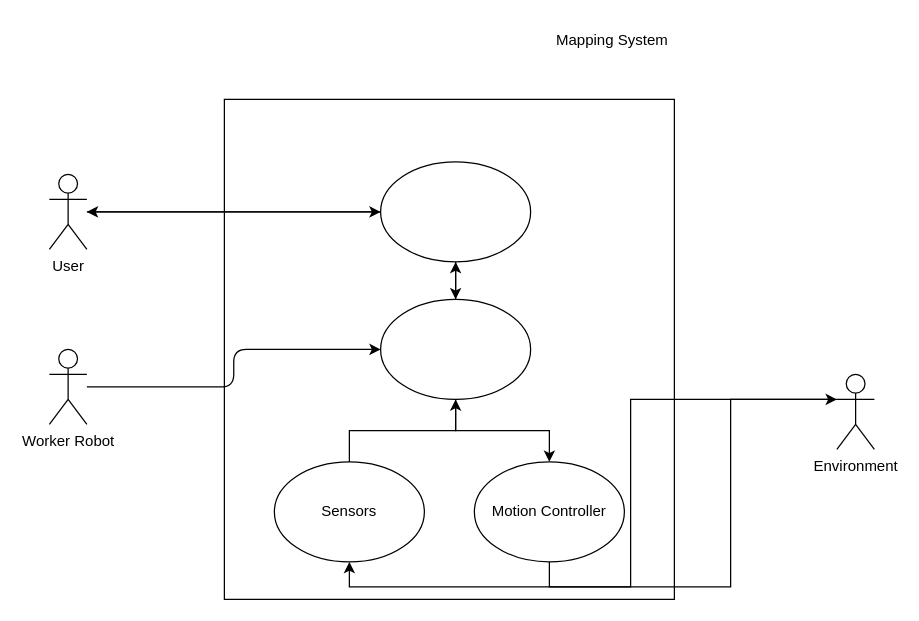
Some shapes in this 919 by 621 pixel diagram are drawn without their labels. Here are the shapes that lost their labels. From the top down, the centre of each, then its label:
point (455, 211): User-Machine Interface
point (455, 348): Planner
